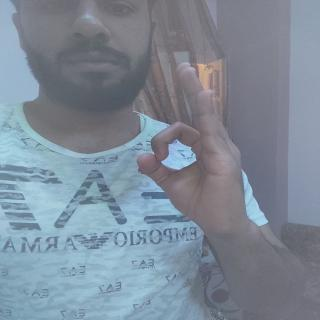Space: (132, 42, 252, 248)
